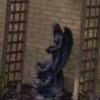Statue: (23, 16, 81, 100)
